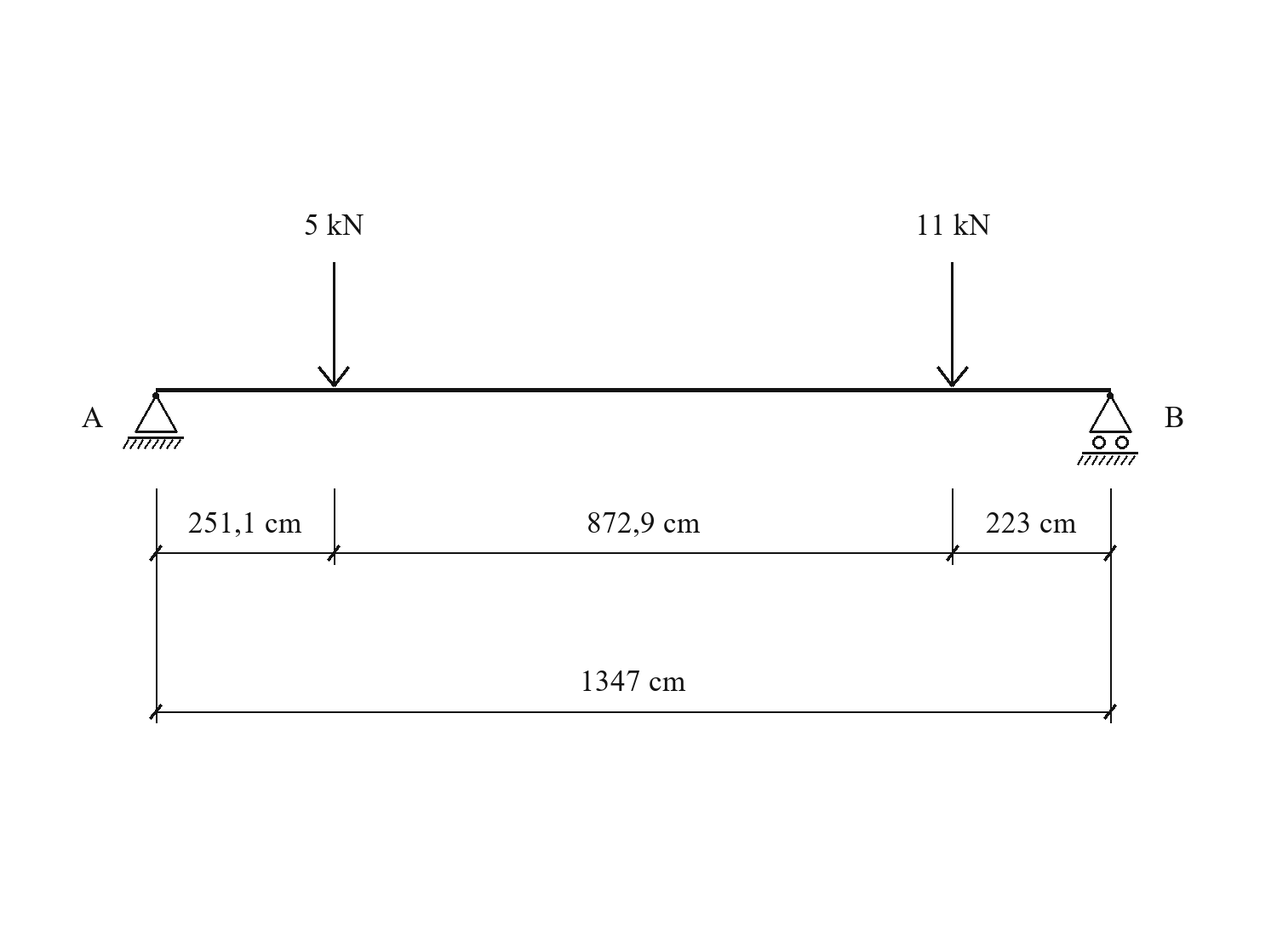pin_support: (123, 392, 184, 449)
point_load: (936, 262, 969, 387), (318, 262, 350, 387)
roller_support: (1077, 392, 1138, 465)
